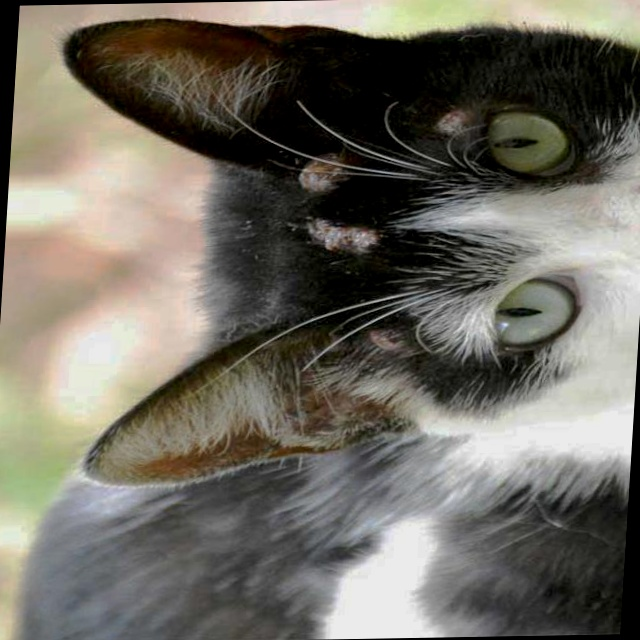lump_and_bump: (318, 222, 381, 254), (303, 157, 342, 184), (435, 107, 467, 133), (372, 330, 403, 350)
